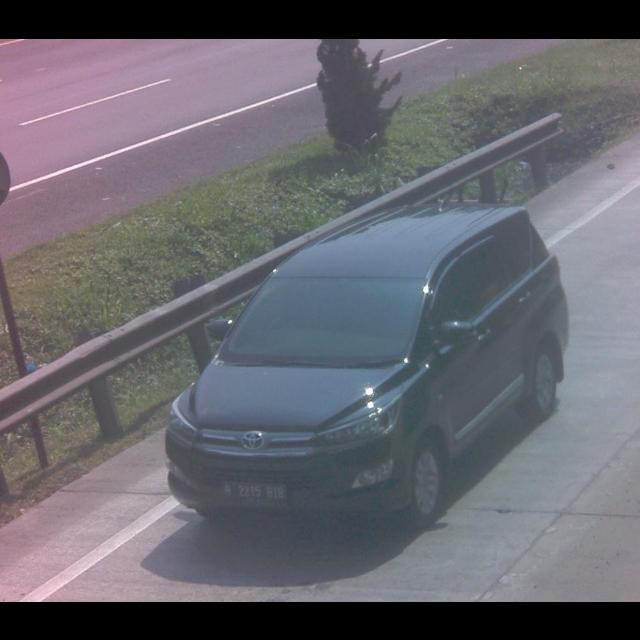plate: (217, 478, 291, 512)
